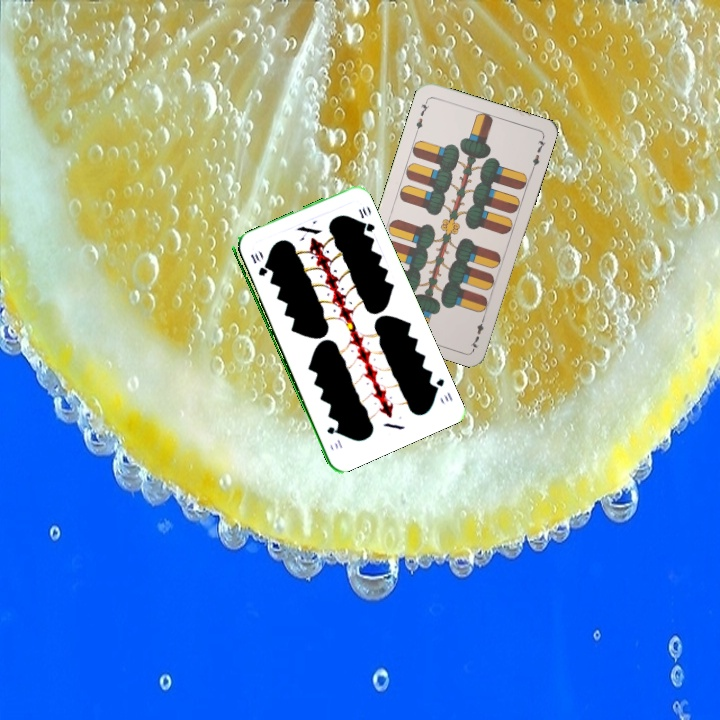E7: (411, 96, 432, 136), (466, 312, 487, 352)
G10: (428, 374, 455, 404), (246, 249, 268, 279)
